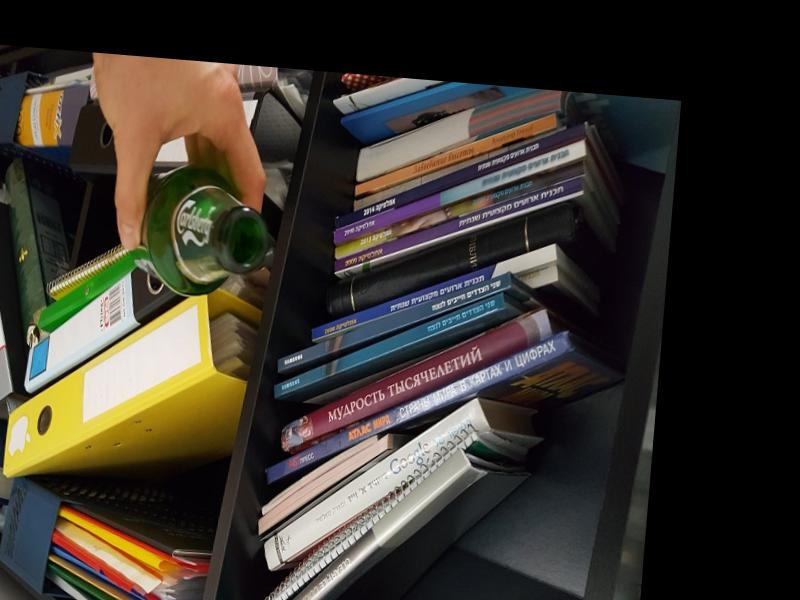Beer: (125, 165, 270, 300)
